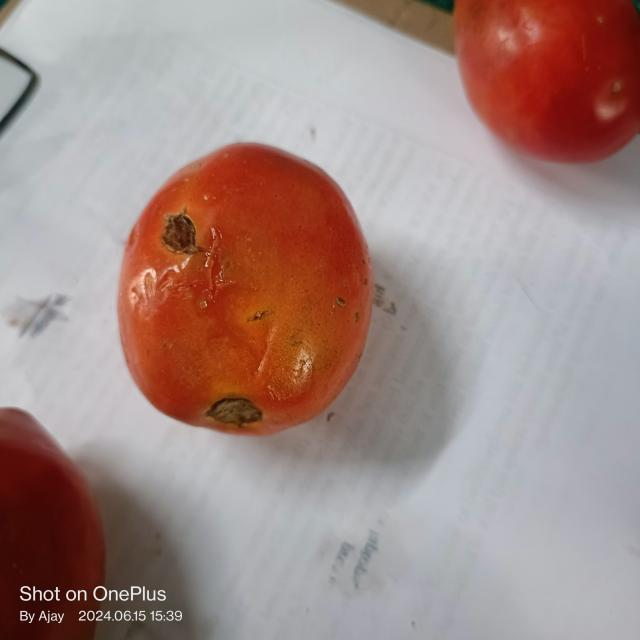Botrytis: (203, 222, 224, 304), (161, 210, 196, 251)
